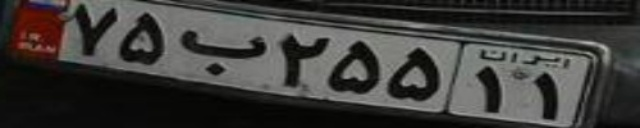1: (531, 70, 561, 121), (473, 65, 501, 112)
2: (279, 35, 330, 90)
5: (385, 45, 442, 101), (327, 39, 382, 94), (118, 10, 165, 65)
7: (73, 3, 119, 56)
be: (177, 29, 269, 77)
